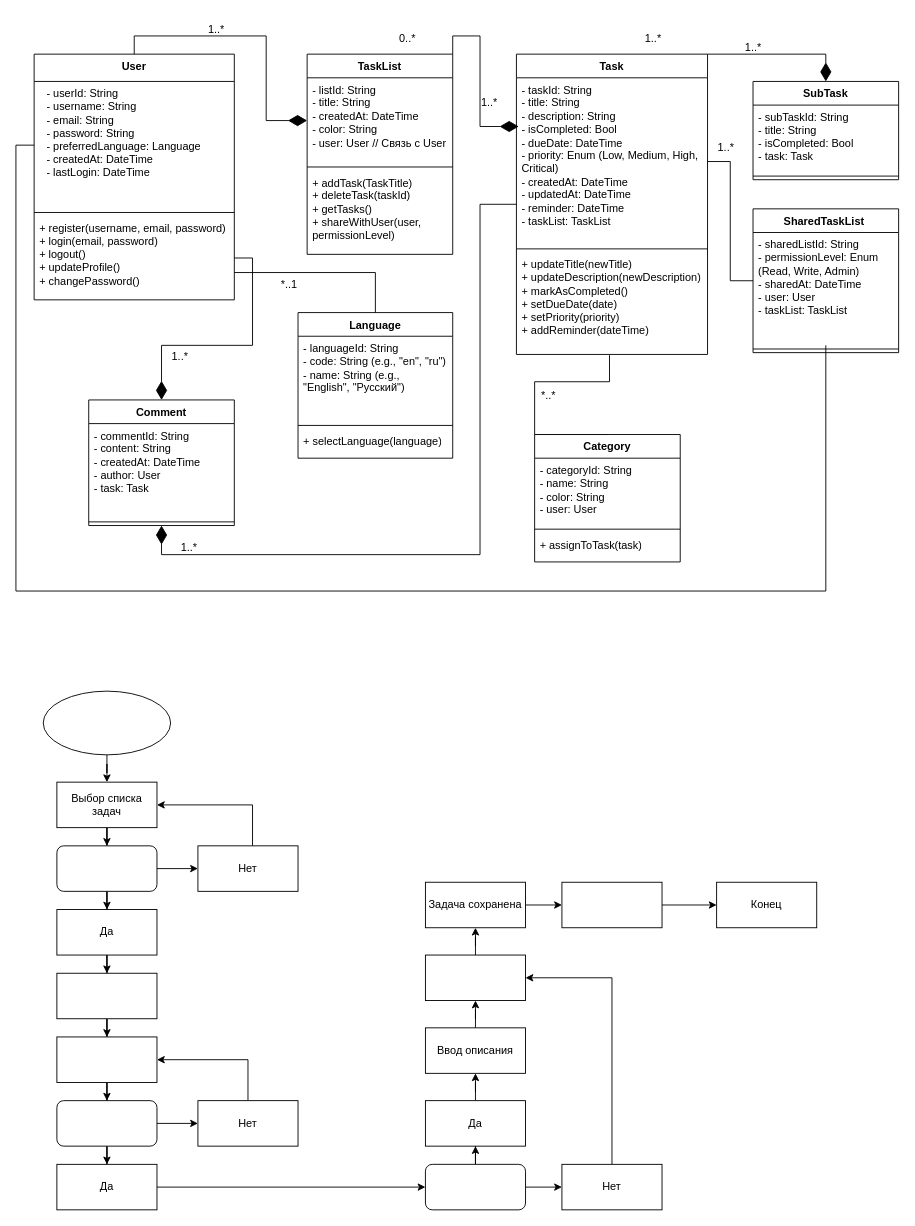
The diagram is 915 pixels wide and 1226 high, and some of its shapes have lost their labels. Each missing label, with the centre of its shape:
"Ввести описание?" goes at (475,1186).
"Ввод заголовка" goes at (106,1059).
"Добавить задачу" goes at (106,995).
"Заголовок введен?" goes at (106,1123).
"Начало" goes at (106,722).
"Обновление интерфейса" goes at (611,904).
"Сохранить" goes at (475,977).
"Список выбран?" goes at (106,868).
